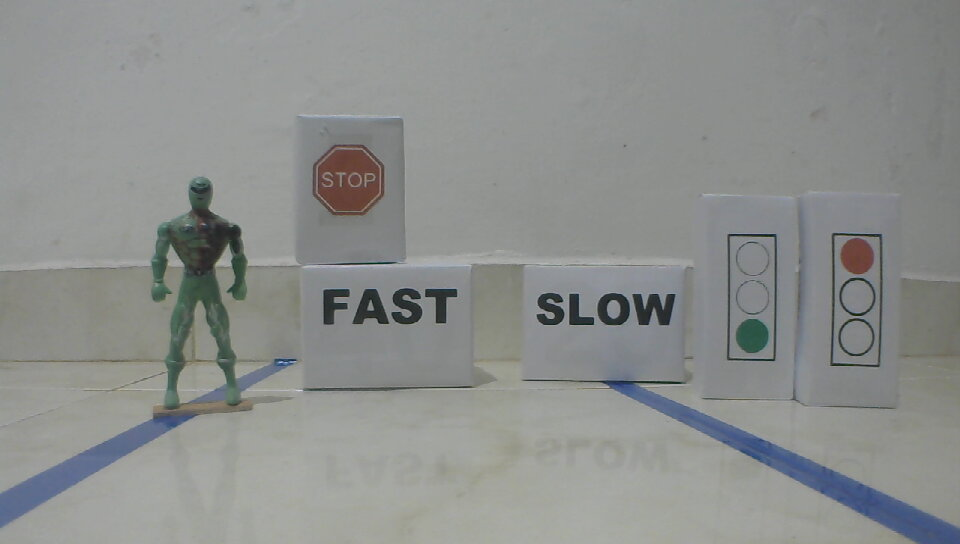Fast: (322, 286, 458, 327)
Green Traffic Light: (725, 231, 779, 365)
Person: (148, 175, 251, 415)
Red Traffic Light: (828, 232, 886, 371)
Slow: (535, 289, 674, 328)
Stop Sign: (311, 143, 385, 218)
